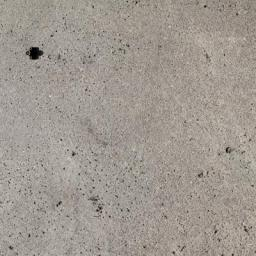FOD: (23, 44, 48, 63)
